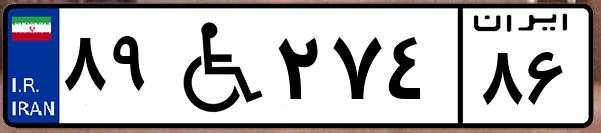2: (270, 28, 330, 110)
4: (385, 28, 445, 110)
6: (525, 38, 570, 115)
7: (330, 28, 385, 110)
8: (57, 26, 110, 100), (475, 38, 525, 113)
9: (110, 28, 158, 98)
ژ (معلولین و جانبازان): (158, 12, 270, 120)
